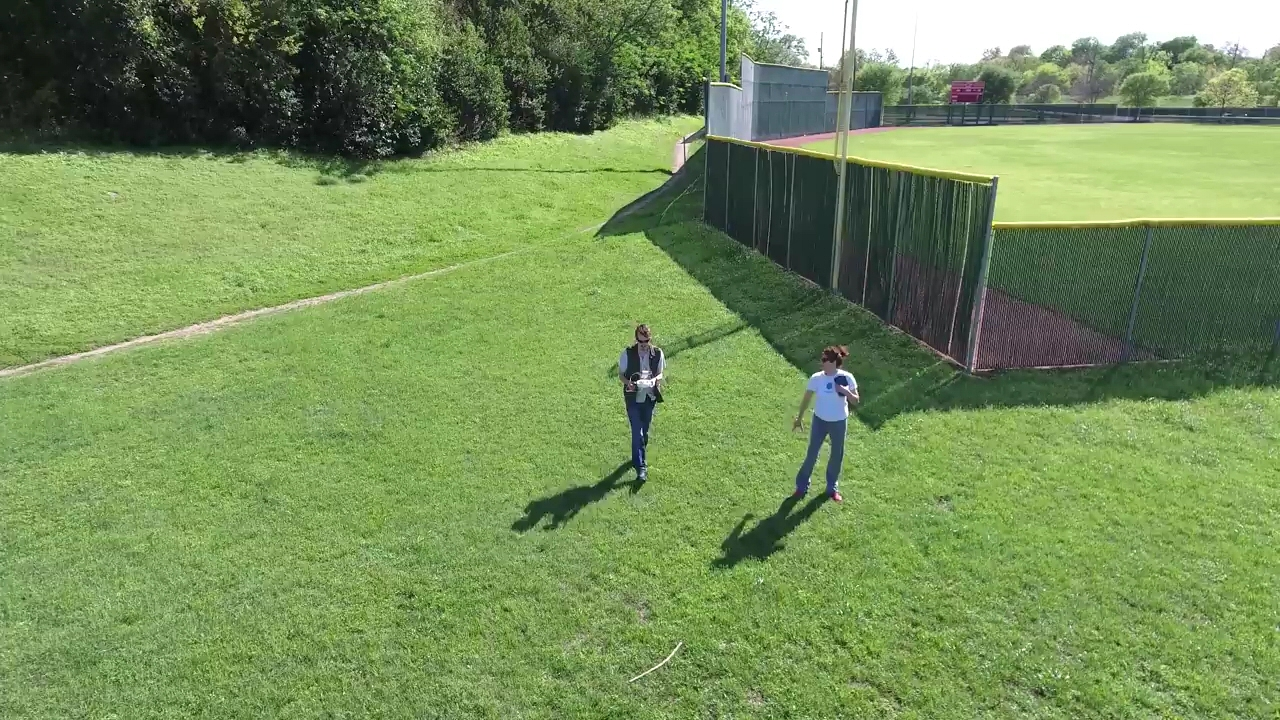insan: (791, 342, 863, 500), (617, 323, 666, 482)
